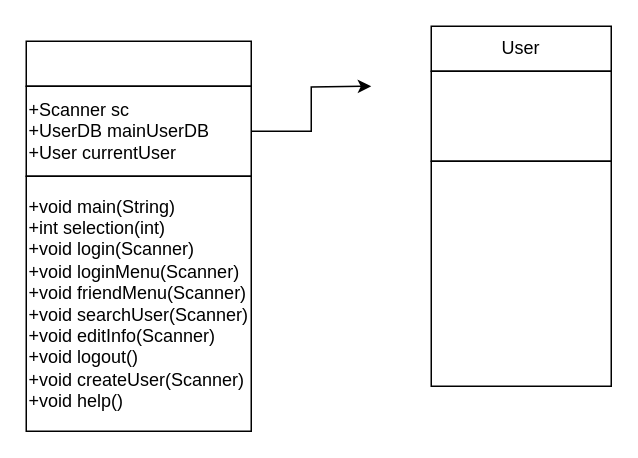
The diagram is 638 pixels wide and 458 high, and some of its shapes have lost their labels. The shapes that lost their labels are listed below. From the top down, each one's centre as x and y in pixels, then its label:
point 138,63: Laucher
point 520,115: -name -password -personInfo -contactInfo
